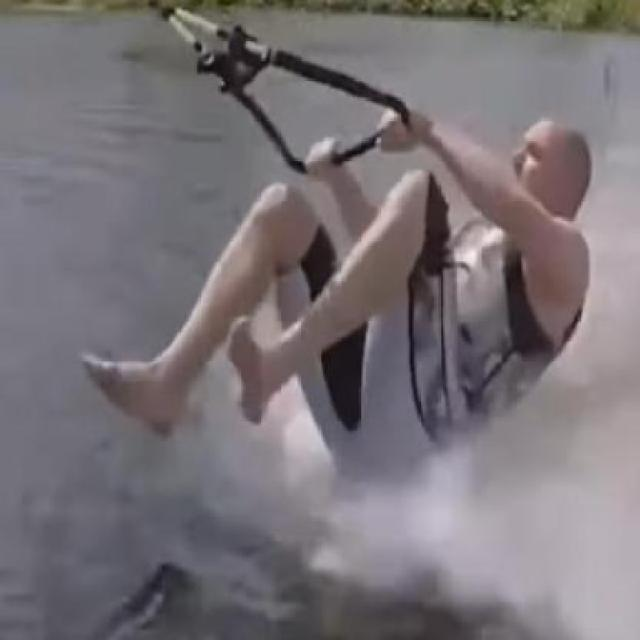fall: (75, 104, 591, 470)
